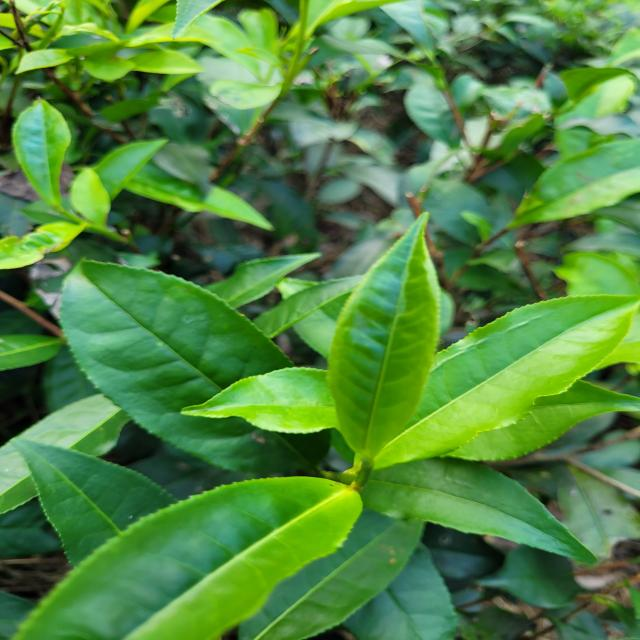Catagory A(1-2 days): (315, 198, 453, 489)
